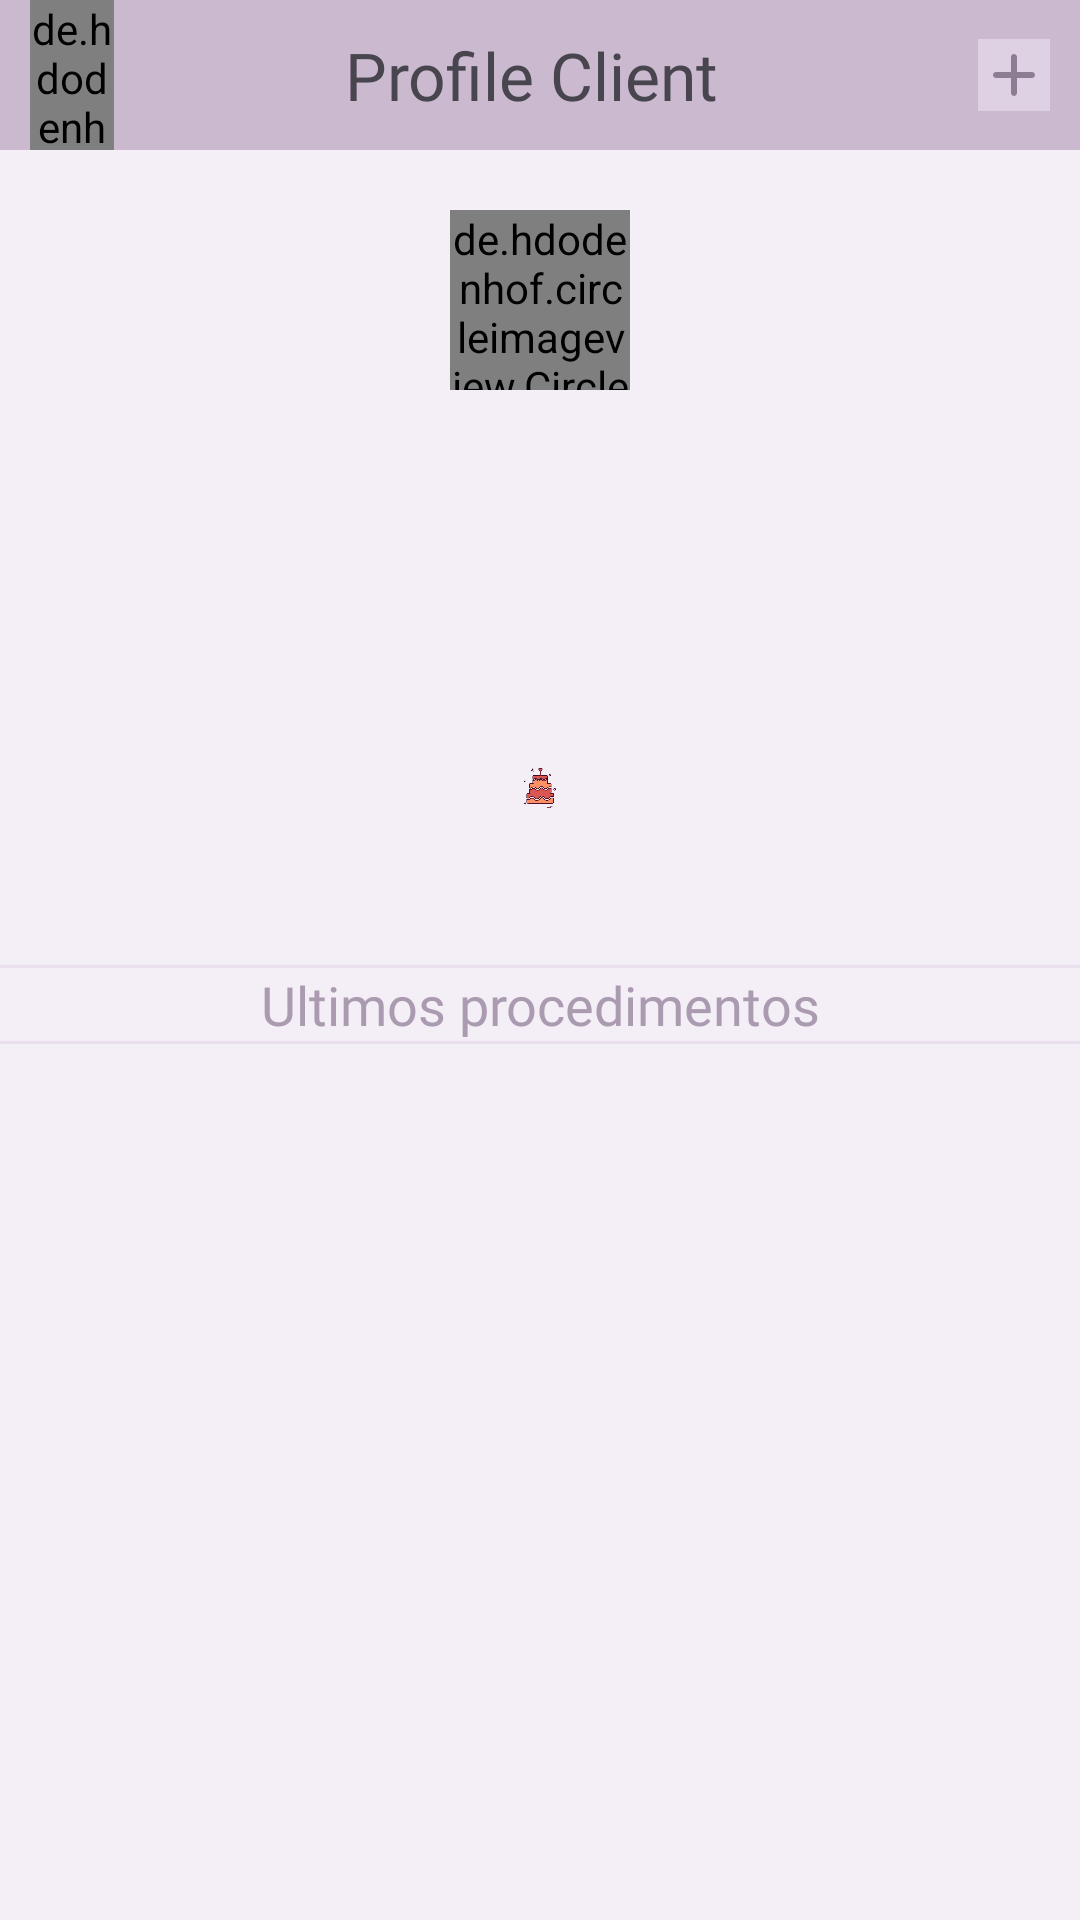

Icons on this 1080*1920 Android screen, each with its box as BBox(x1, y1, x2, y2):
add: BBox(978, 39, 1050, 111)
aniversario: BBox(524, 768, 556, 808)
